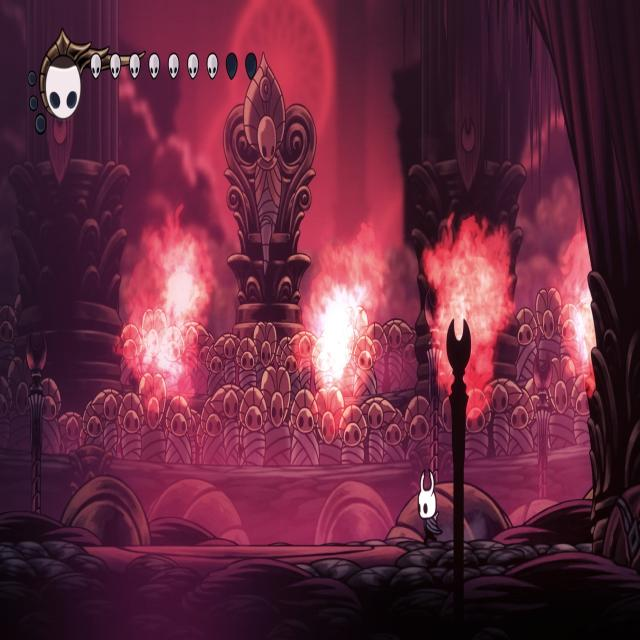Fireball: (441, 252, 505, 390), (136, 262, 201, 378), (311, 270, 363, 394), (566, 262, 598, 379)
Player: (416, 464, 443, 548)
